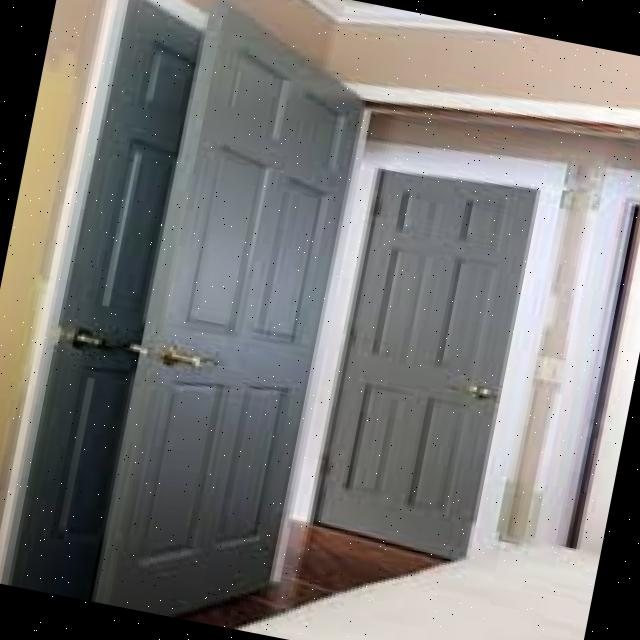Door: (86, 0, 394, 637), (7, 0, 210, 601), (293, 140, 549, 576)
